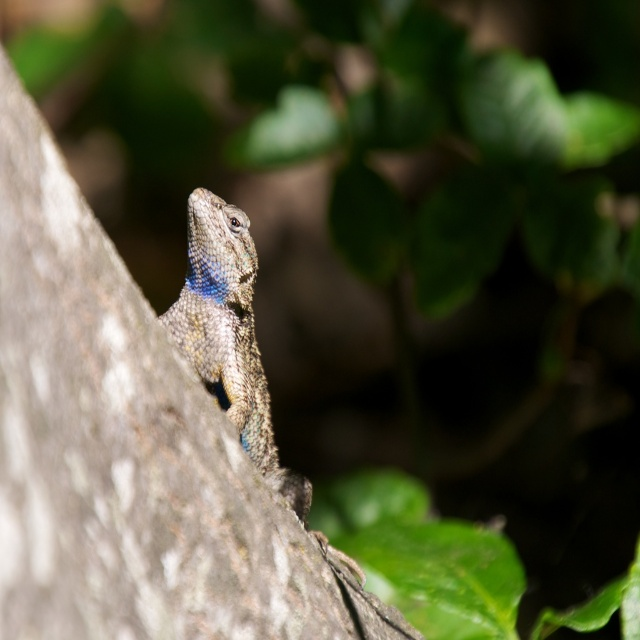Lizard: (144, 182, 297, 524)
